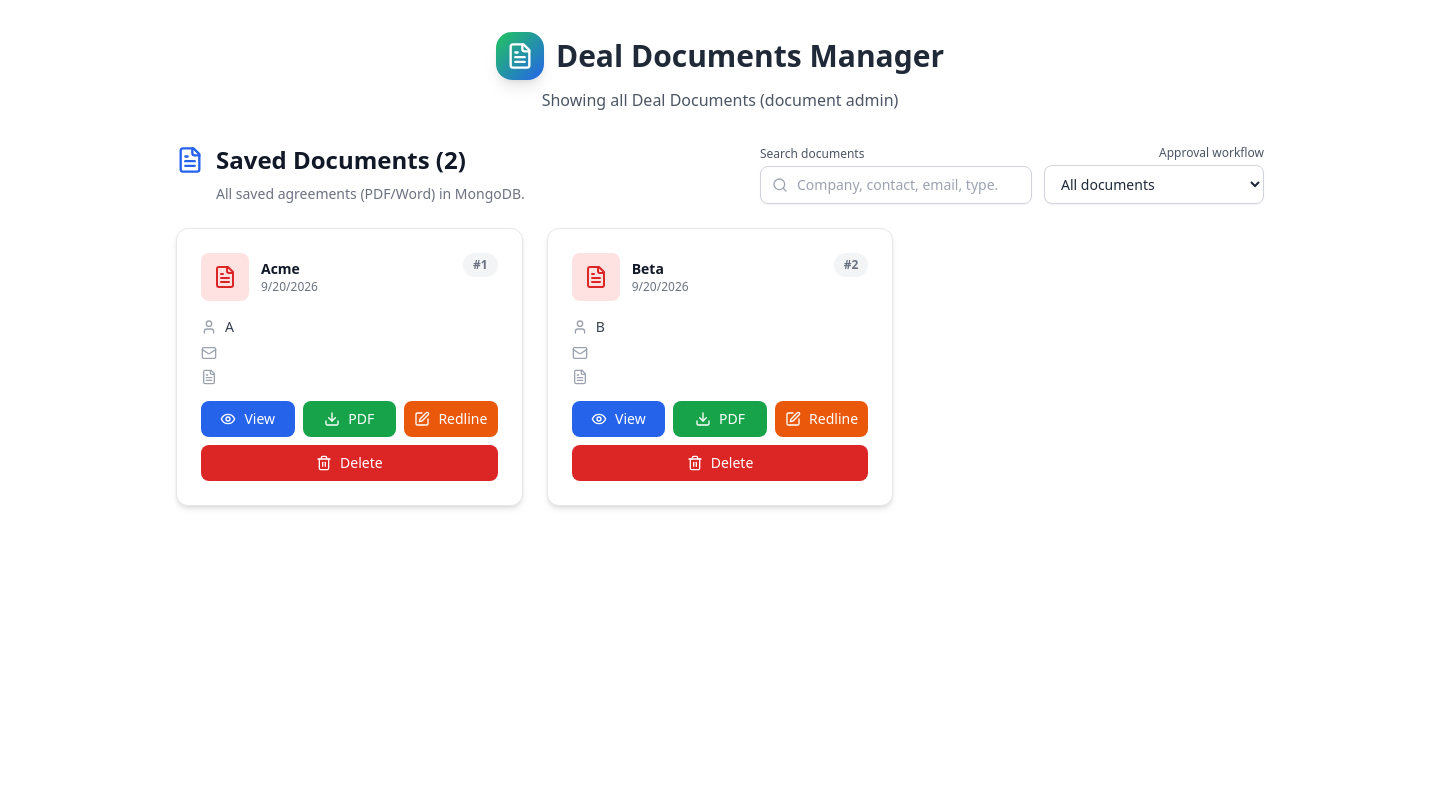
Documents page Delete button › confirms, deletes the right document, and removes it from the list
Expected: the heading "Saved Documents (2)" is shown, [176,143,466,176]
Click the button "Delete" below "Acme" at (349, 463), box [201,445,498,481]
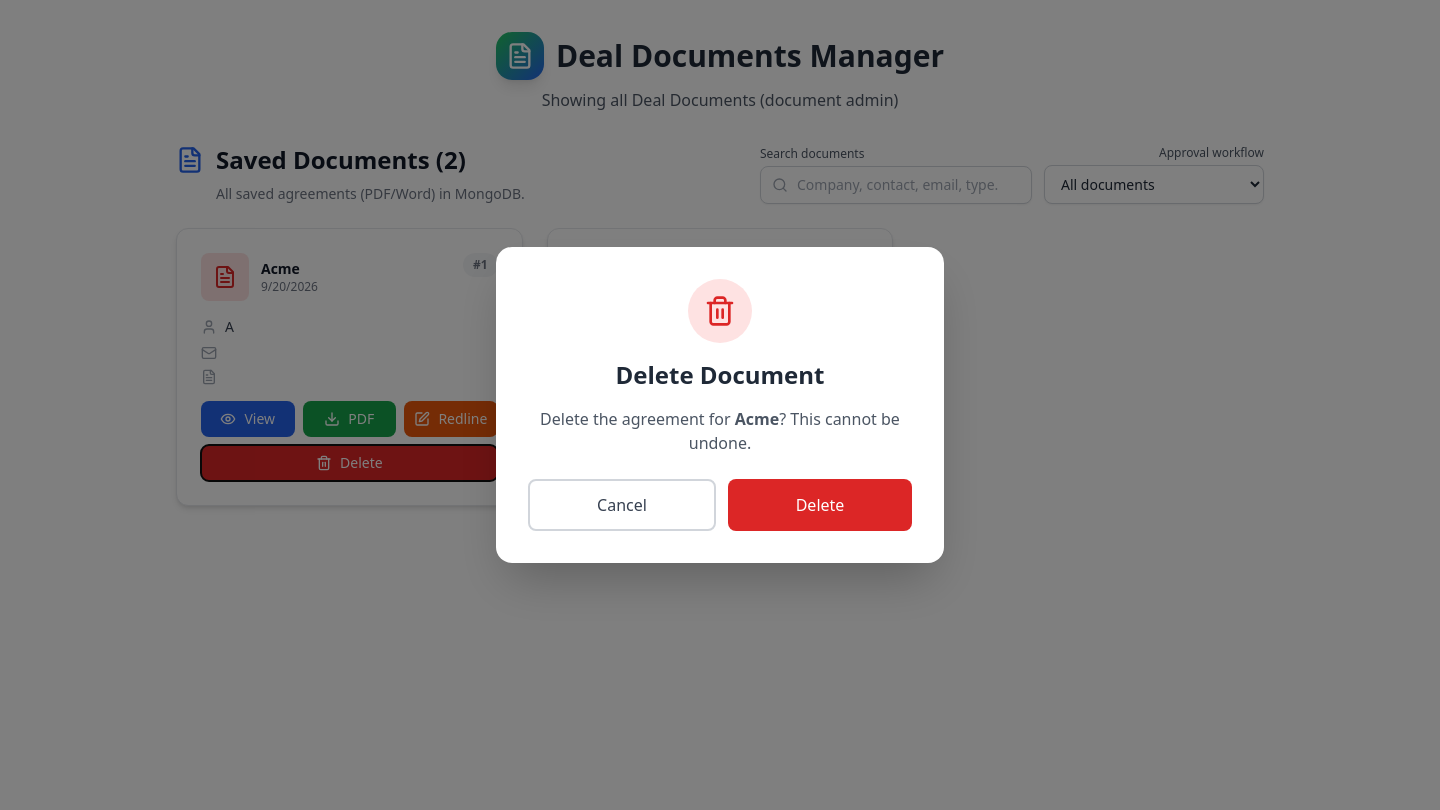
Expected: the dialog shows "Acme", [735,408,779,430]
Click the button "Delete" at (820, 505), box [728,479,912,531]
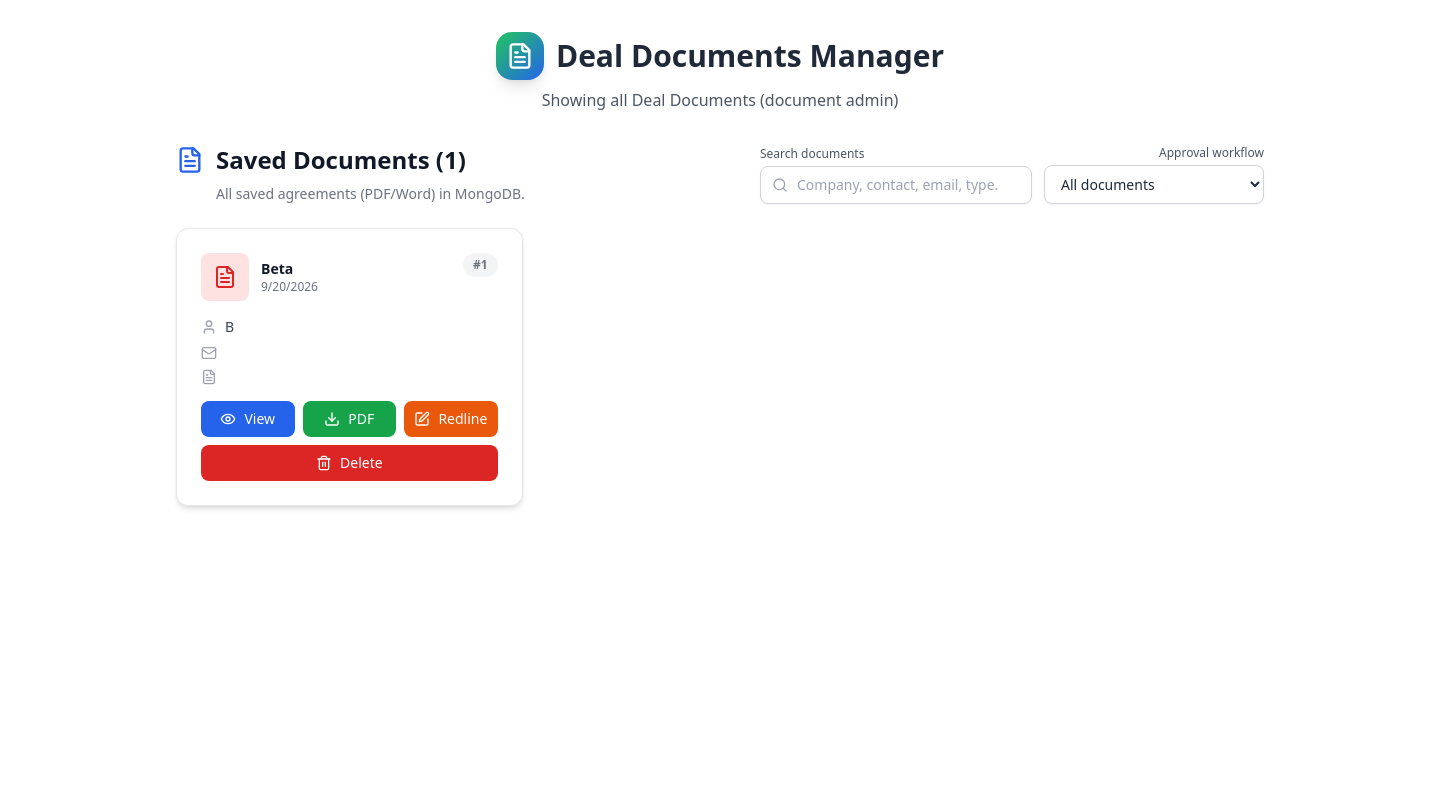
Expected: the heading "Saved Documents (1)" is shown, [176,143,466,176]
Expected: the dialog is gone
Expected: the heading "Acme" is gone
